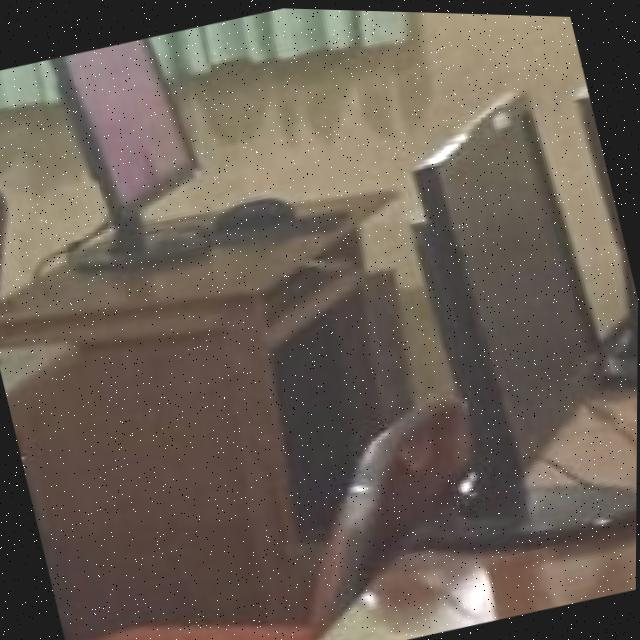offscreen: (415, 89, 597, 509)
